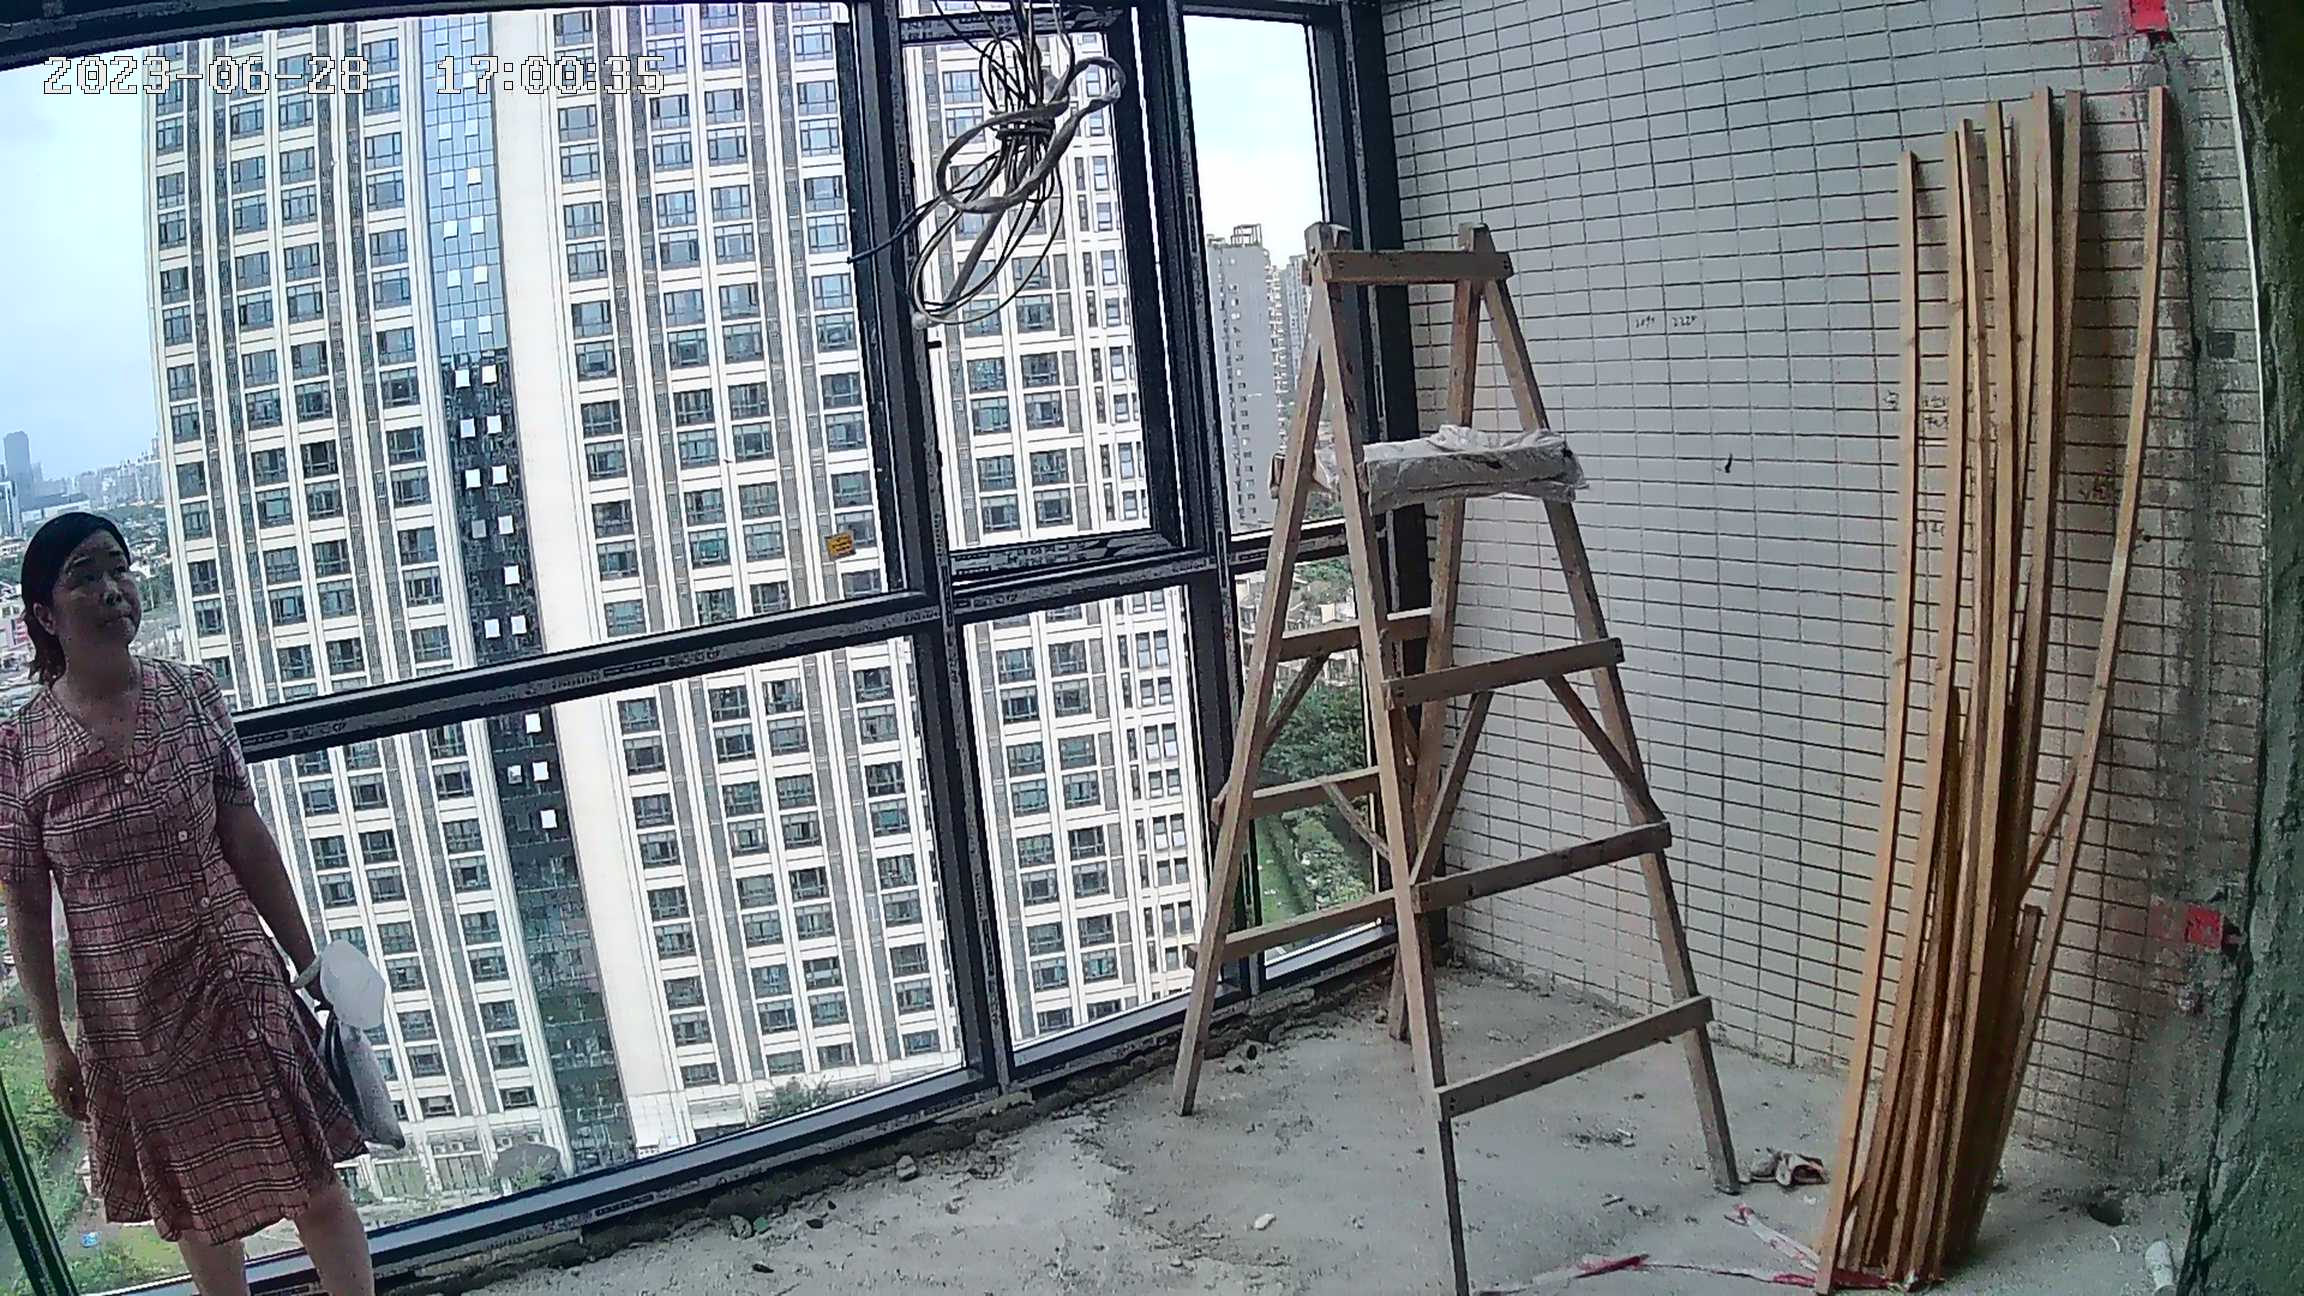people: (1, 510, 400, 1296)
window: (1, 14, 1393, 1208)
